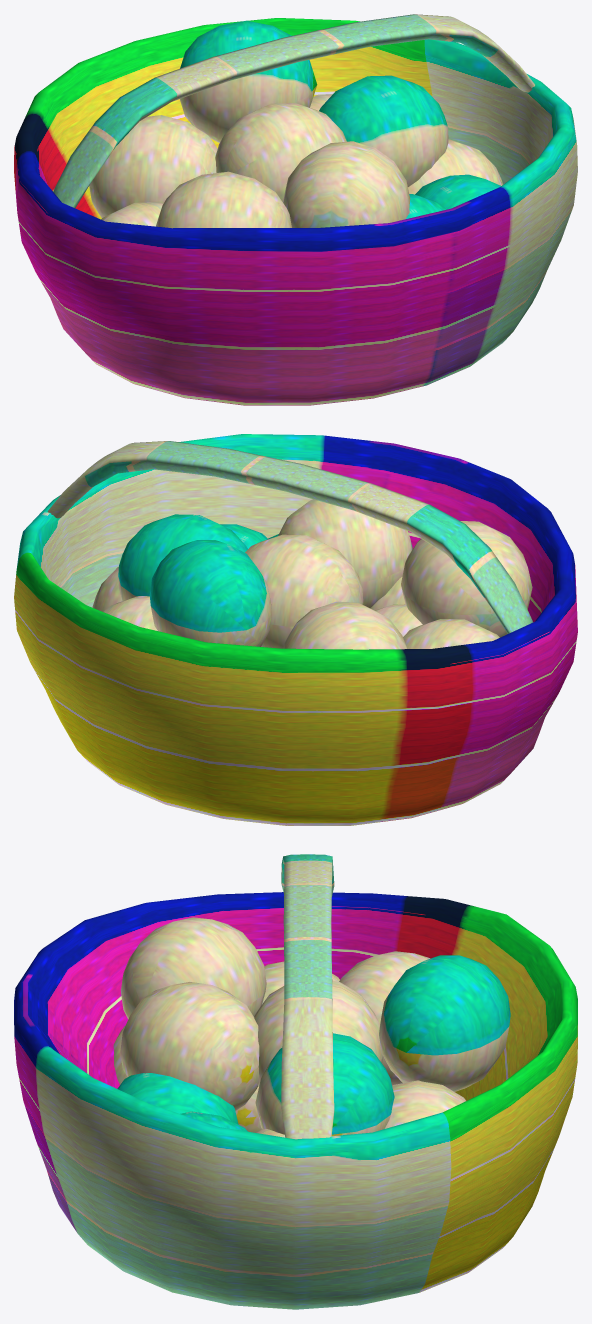
The model's file is CestoHiRes.fbx.
The picture shows the model from 3 angles, top to bottom: view 1: azimuth 30°, elevation 25°; view 2: azimuth 150°, elevation 25°; view 3: azimuth 270°, elevation 25°; orthographic projection. The views are drawn at different scales.
Parts seen in each view (by area): view 1: Cylinder001, Mele; view 2: Cylinder001, Mele; view 3: Cylinder001, Mele.
Part boxes in pixels (box(x1,y1,x2,y2)): Cylinder001: box(14, 14, 577, 405); Mele: box(89, 20, 503, 228); Cylinder001: box(14, 434, 577, 825); Mele: box(92, 499, 532, 649); Cylinder001: box(14, 854, 577, 1309); Mele: box(113, 917, 510, 1137).
Bounding box in the file's own units: 44.01 × 23.19 × 39.43.
1 material, 1 textured.
